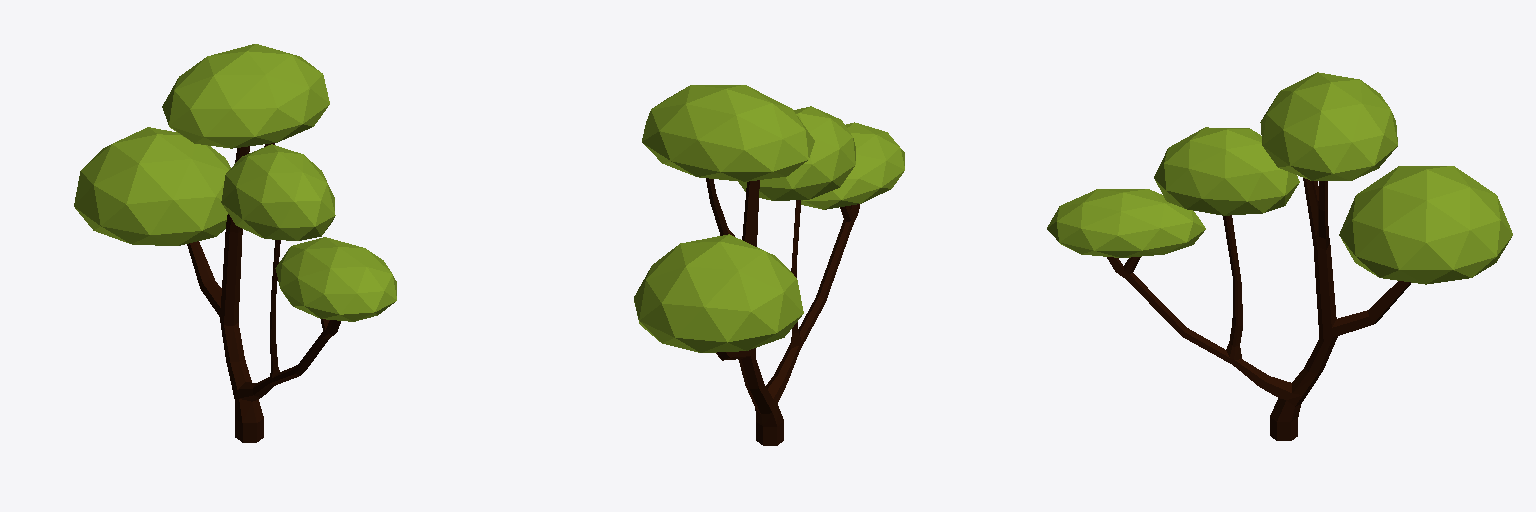
The model's file is Tree4.obj.
3 views of the same model, side by side, from view 1: azimuth 30°, elevation 25°; view 2: azimuth 150°, elevation 25°; view 3: azimuth 270°, elevation 25° (orthographic).
Parts seen in each view (by area): view 1: Tree4_Cylinder.003; view 2: Tree4_Cylinder.003; view 3: Tree4_Cylinder.003.
Part boxes in pixels (x1,y1,x2,y2): Tree4_Cylinder.003: (74, 44, 396, 442); Tree4_Cylinder.003: (634, 85, 904, 445); Tree4_Cylinder.003: (1047, 72, 1512, 440).
Size of the model in its own units: 3.77 by 6.85 by 7.96.